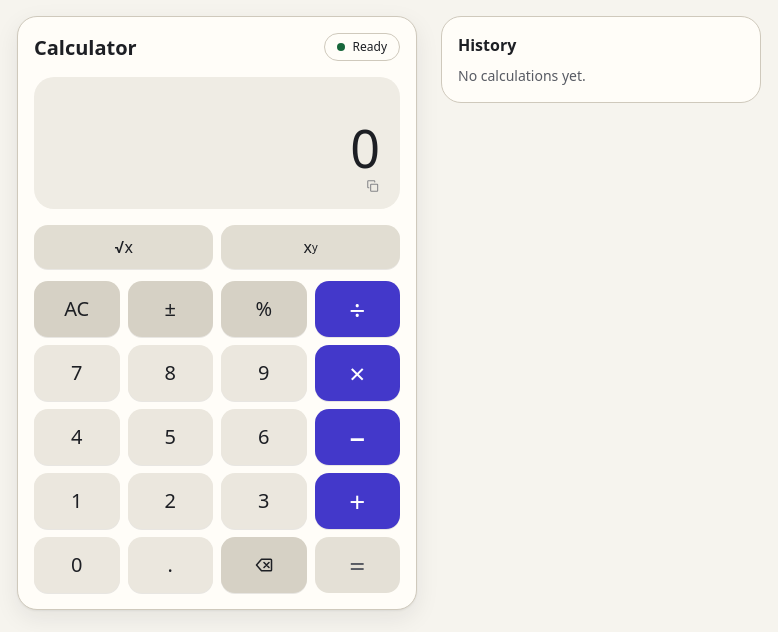
Test: CalculatorPage › calculations › chains left to right and records the whole chain in the history
Click the button "2" at [170, 501], box [128, 473, 213, 529]
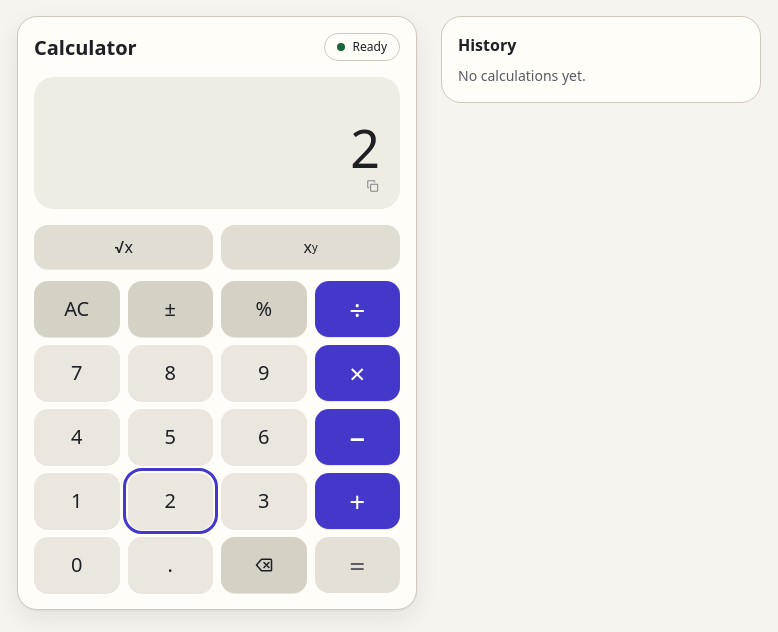
Click the button named "add" at [357, 501], box [314, 473, 400, 529]
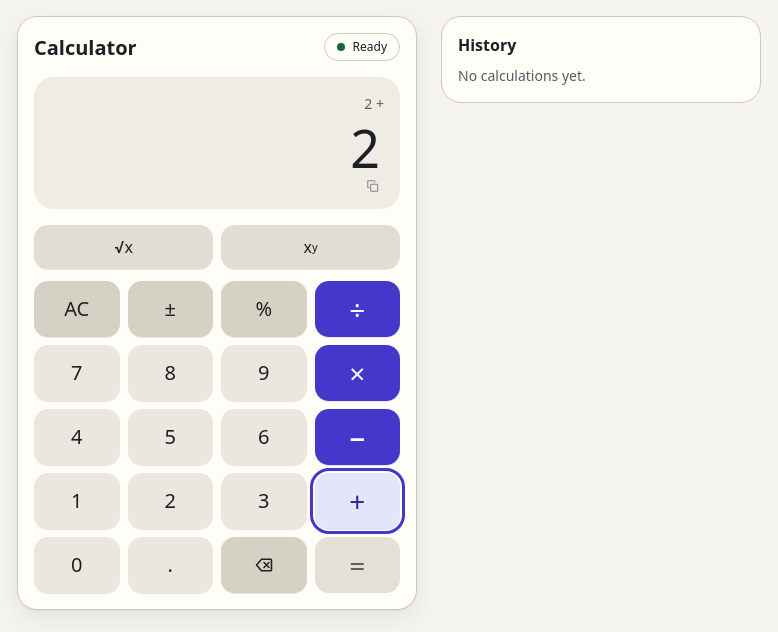
Click the button "3" at [264, 501], box [221, 473, 306, 529]
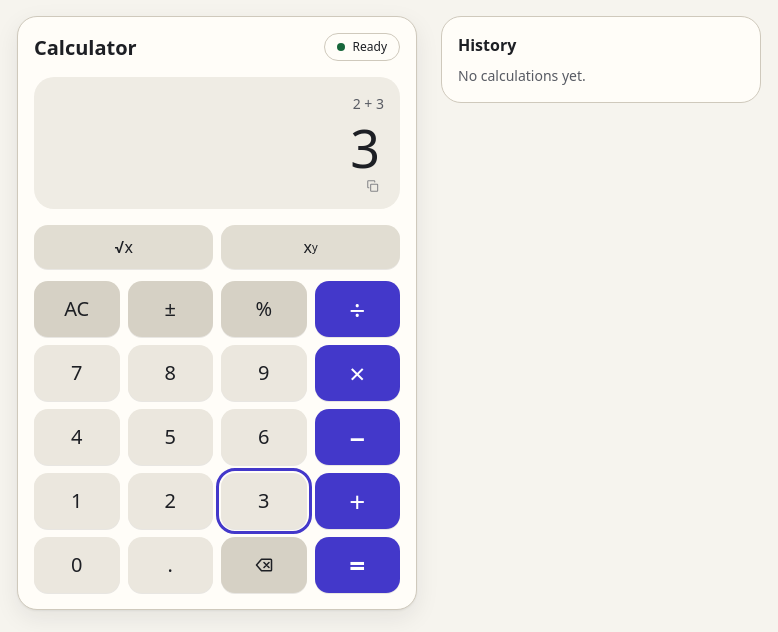
Click the button named "multiply" at [357, 373], box [314, 345, 400, 401]
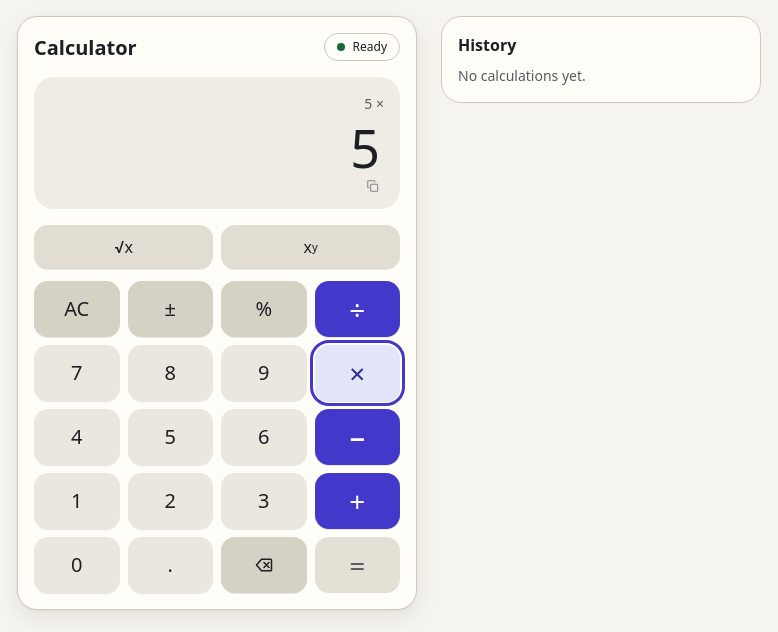
Expected: the button named "5, copy" is shown, [340, 118, 384, 178]
Click the button "4" at [77, 437], box [34, 409, 120, 465]
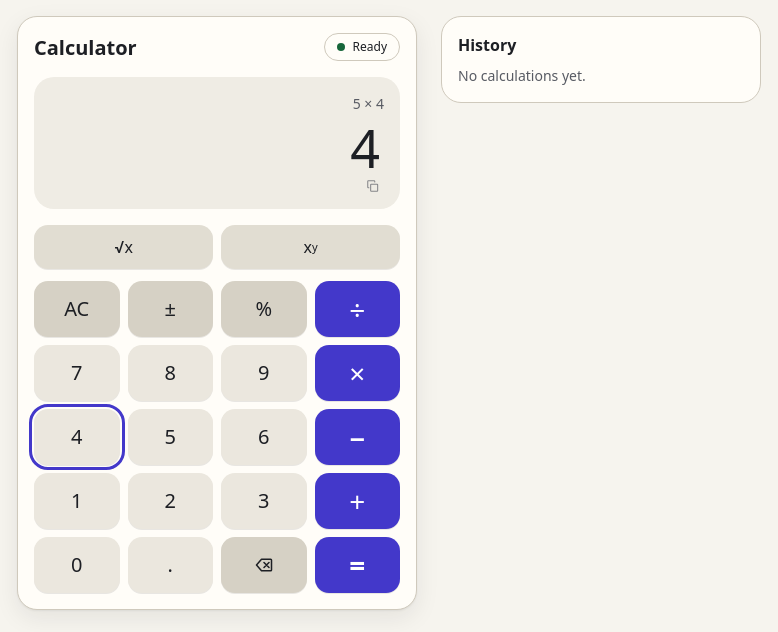
Click the button named "equals" at [357, 565], box [314, 537, 400, 593]
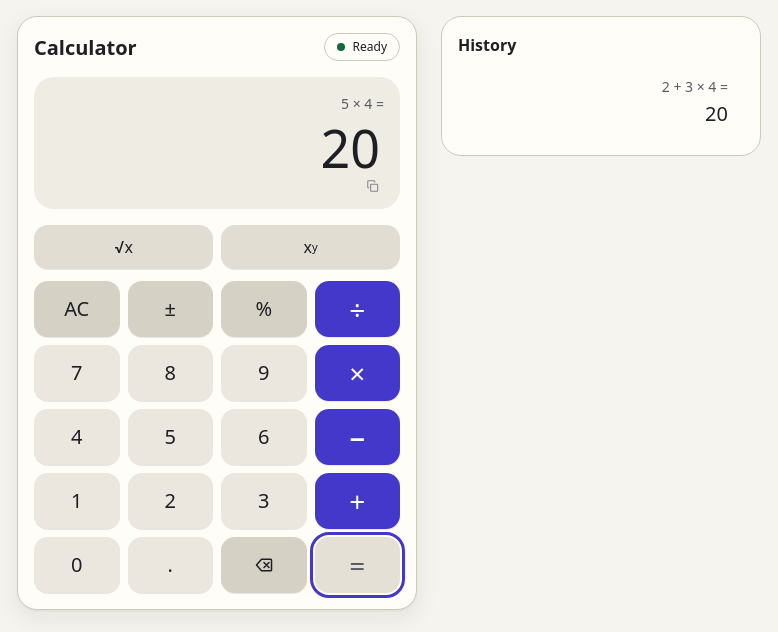
Expected: the button named "20, copy" is shown, [316, 118, 384, 178]
Expected: the button named "use 2 + 3 × 4 = 20" is shown, [458, 65, 744, 139]
